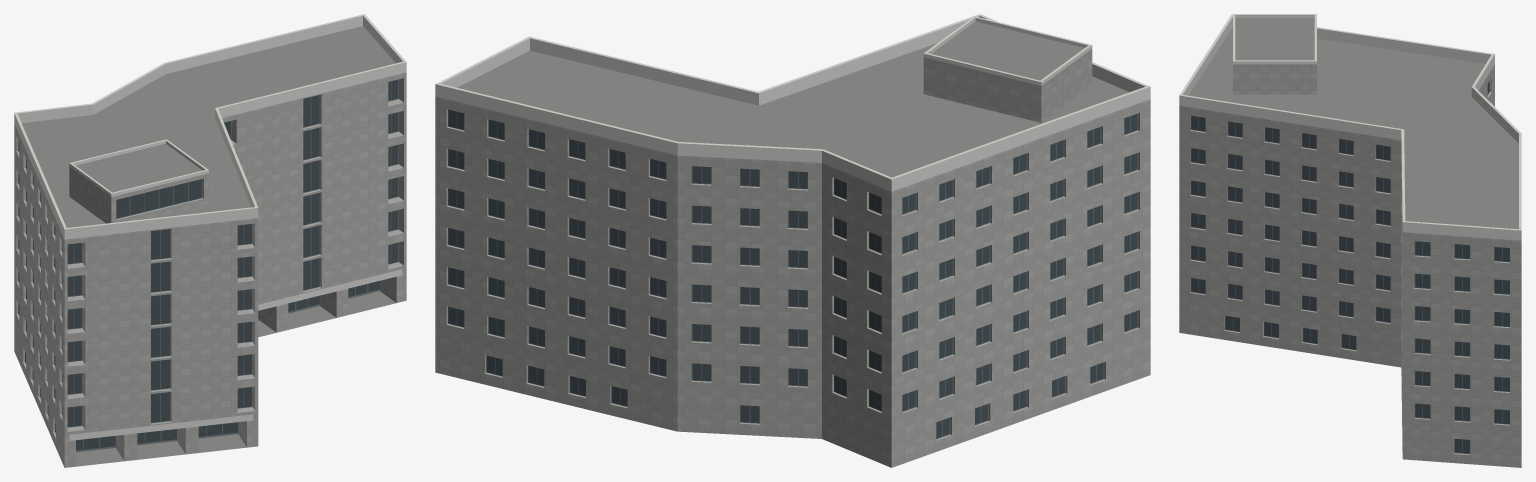
3 renders of one model, left to right at view 1: azimuth 30°, elevation 25°; view 2: azimuth 150°, elevation 25°; view 3: azimuth 270°, elevation 25°, orthographic. The views are drawn at different scales.
Visible parts, largest first — view 1: iHouse__wall, iHouse__roof, iHouse__glass, iHouse__trim, iHouse__frame; view 2: iHouse__wall, iHouse__roof, iHouse__glass, iHouse__trim, iHouse__frame; view 3: iHouse__wall, iHouse__roof, iHouse__glass, iHouse__trim, iHouse__frame.
Part boxes in pixels (x1,y1,x2,y2): iHouse__wall: (14, 72, 406, 467); iHouse__roof: (22, 26, 396, 466); iHouse__glass: (18, 79, 398, 450); iHouse__trim: (14, 14, 406, 440); iHouse__frame: (18, 79, 398, 452); iHouse__wall: (435, 49, 1150, 467); iHouse__roof: (457, 21, 1129, 177); iHouse__glass: (448, 109, 1137, 438); iHouse__trim: (435, 14, 1150, 191); iHouse__frame: (448, 109, 1138, 439); iHouse__wall: (1179, 64, 1521, 467); iHouse__roof: (1189, 18, 1518, 451); iHouse__glass: (1191, 81, 1509, 453); iHouse__trim: (1179, 14, 1521, 425); iHouse__frame: (1190, 92, 1509, 453).
Bounding box in the file's own units: 45.77 × 25.7 × 30.6.
5 materials, 1 textured.
